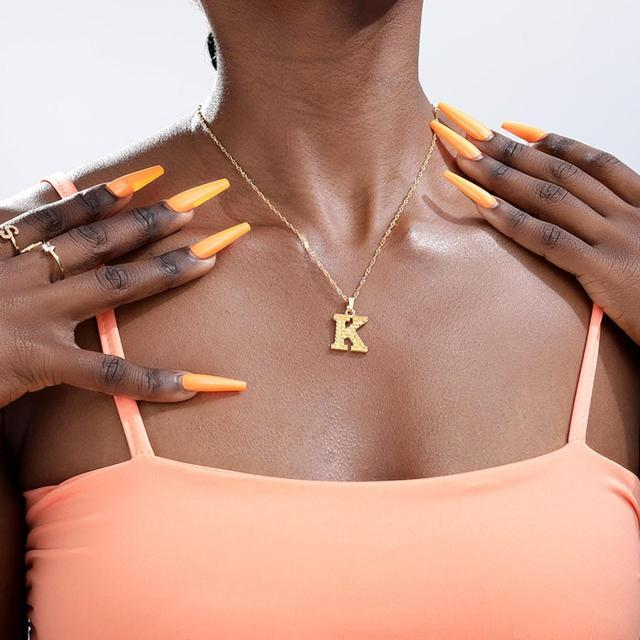Nail: (165, 178, 229, 212), (436, 102, 493, 140), (190, 223, 250, 259), (431, 119, 481, 159), (445, 171, 496, 208), (108, 165, 163, 196), (181, 373, 246, 393), (501, 123, 546, 143)
